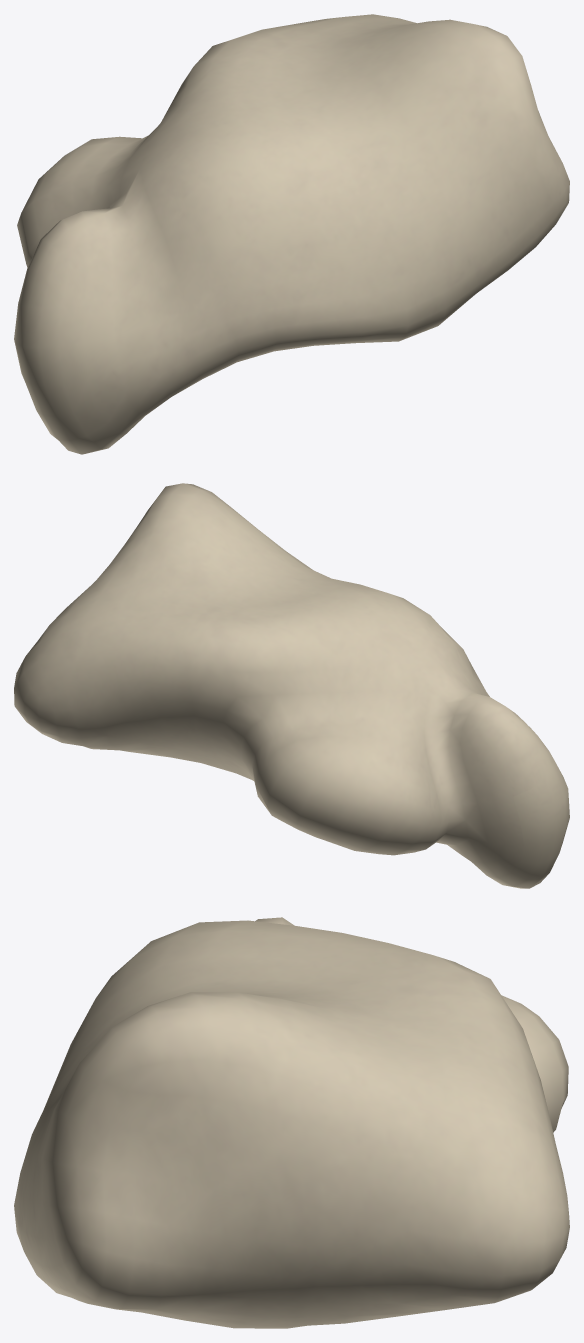
File: L carpi intermedium radiale.fbx
The picture shows the model from 3 angles, top to bottom: view 1: azimuth 30°, elevation 25°; view 2: azimuth 150°, elevation 25°; view 3: azimuth 270°, elevation 25°; orthographic projection. The views are drawn at different scales.
Parts seen in each view (by area): view 1: L carpi intermedium radiale; view 2: L carpi intermedium radiale; view 3: L carpi intermedium radiale.
Boxes of the visible parts, bbox=[...] form: L carpi intermedium radiale: bbox=[14, 14, 569, 454]; L carpi intermedium radiale: bbox=[14, 483, 569, 888]; L carpi intermedium radiale: bbox=[14, 917, 569, 1328].
Bounding box in the file's own units: 4.28 × 2.74 × 2.87.
